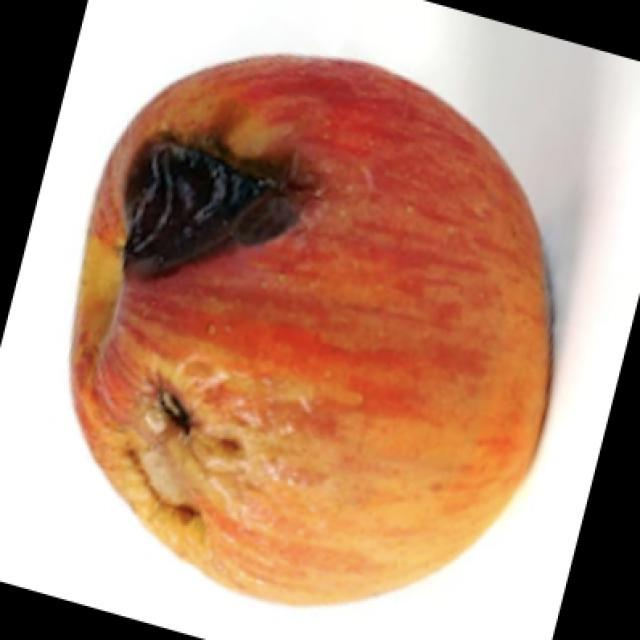Rotten: (90, 54, 553, 618)
